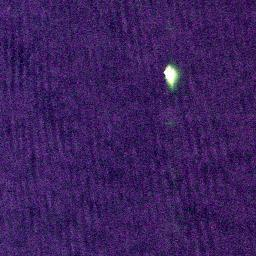Ship: (157, 59, 182, 89)
